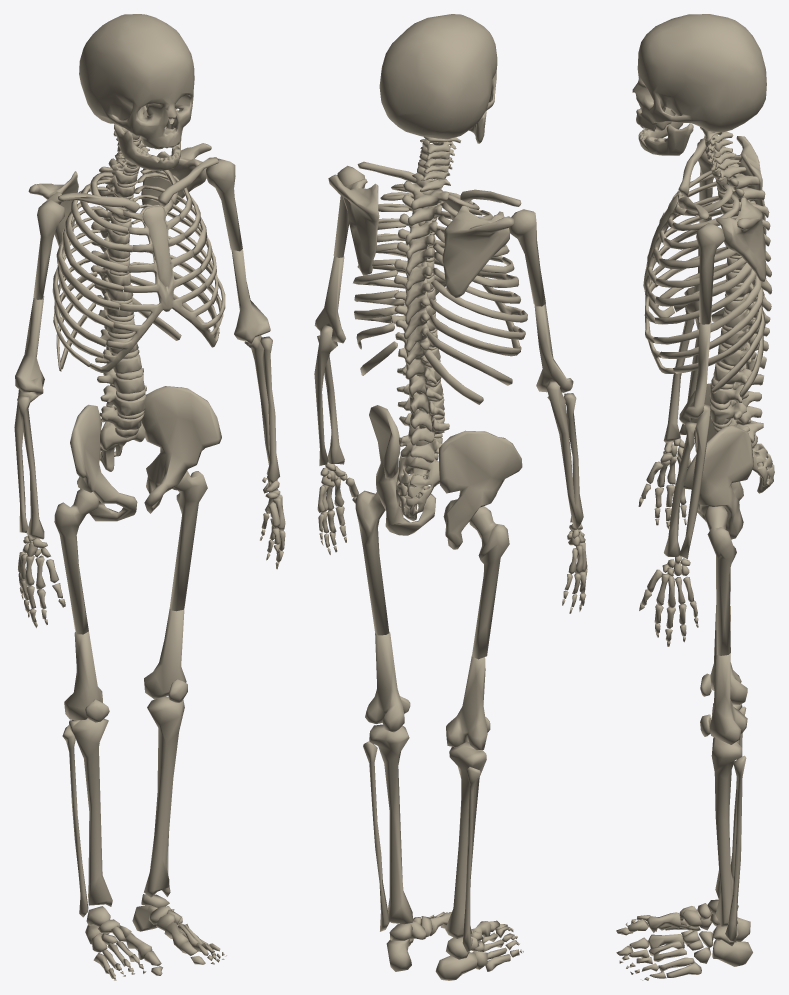
File: pediatric_child_10y_male.skeletal.LOD2.glb
3 views of the same model, side by side, from view 1: azimuth 30°, elevation 25°; view 2: azimuth 150°, elevation 25°; view 3: azimuth 270°, elevation 25° (orthographic).
Visible parts, largest first — view 1: PEDIATRIC.CHILD_10Y.MALE.SKELETAL.CRANIUM_CORTICAL, PEDIATRIC.CHILD_10Y.MALE.SKELETAL.RIBS_CORTICAL, PEDIATRIC.CHILD_10Y.MALE.SKELETAL.PELVIS_CORTICAL, PEDIATRIC.CHILD_10Y.MALE.SKELETAL.TIBIAE_CORTICAL, PEDIATRIC.CHILD_10Y.MALE.SKELETAL.CARTILAGE_TRUNK, PEDIATRIC.CHILD_10Y.MALE.SKELETAL.FEMORA_UPPER_CORTICAL, PEDIATRIC.CHILD_10Y.MALE.SKELETAL.ANKLES_AND_FOOT_CORTICAL, PEDIATRIC.CHILD_10Y.MALE.SKELETAL.FEMORA_LOWER_CORTICAL, PEDIATRIC.CHILD_10Y.MALE.SKELETAL.WRISTS_AND_HAND_BONES_CORT, PEDIATRIC.CHILD_10Y.MALE.SKELETAL.HUMERI_LOWER_CORTICAL, PEDIATRIC.CHILD_10Y.MALE.SKELETAL.THORACIC_SPINE_CORTICAL, PEDIATRIC.CHILD_10Y.MALE.SKELETAL.HUMERI_UPPER_CORTICAL (+10 smaller); view 2: PEDIATRIC.CHILD_10Y.MALE.SKELETAL.CRANIUM_CORTICAL, PEDIATRIC.CHILD_10Y.MALE.SKELETAL.RIBS_CORTICAL, PEDIATRIC.CHILD_10Y.MALE.SKELETAL.PELVIS_CORTICAL, PEDIATRIC.CHILD_10Y.MALE.SKELETAL.SCAPULAE_CORTICAL, PEDIATRIC.CHILD_10Y.MALE.SKELETAL.TIBIAE_CORTICAL, PEDIATRIC.CHILD_10Y.MALE.SKELETAL.THORACIC_SPINE_CORTICAL, PEDIATRIC.CHILD_10Y.MALE.SKELETAL.FEMORA_UPPER_CORTICAL, PEDIATRIC.CHILD_10Y.MALE.SKELETAL.FEMORA_LOWER_CORTICAL, PEDIATRIC.CHILD_10Y.MALE.SKELETAL.ANKLES_AND_FOOT_CORTICAL, PEDIATRIC.CHILD_10Y.MALE.SKELETAL.LUMBAR_SPINE_CORTICAL, PEDIATRIC.CHILD_10Y.MALE.SKELETAL.WRISTS_AND_HAND_BONES_CORT, PEDIATRIC.CHILD_10Y.MALE.SKELETAL.ULNAE_CORTICAL (+8 smaller); view 3: PEDIATRIC.CHILD_10Y.MALE.SKELETAL.CRANIUM_CORTICAL, PEDIATRIC.CHILD_10Y.MALE.SKELETAL.RIBS_CORTICAL, PEDIATRIC.CHILD_10Y.MALE.SKELETAL.ANKLES_AND_FOOT_CORTICAL, PEDIATRIC.CHILD_10Y.MALE.SKELETAL.PELVIS_CORTICAL, PEDIATRIC.CHILD_10Y.MALE.SKELETAL.WRISTS_AND_HAND_BONES_CORT, PEDIATRIC.CHILD_10Y.MALE.SKELETAL.SCAPULAE_CORTICAL, PEDIATRIC.CHILD_10Y.MALE.SKELETAL.TIBIAE_CORTICAL, PEDIATRIC.CHILD_10Y.MALE.SKELETAL.LUMBAR_SPINE_CORTICAL, PEDIATRIC.CHILD_10Y.MALE.SKELETAL.THORACIC_SPINE_CORTICAL, PEDIATRIC.CHILD_10Y.MALE.SKELETAL.FEMORA_LOWER_CORTICAL, PEDIATRIC.CHILD_10Y.MALE.SKELETAL.CARTILAGE_TRUNK, PEDIATRIC.CHILD_10Y.MALE.SKELETAL.FEMORA_UPPER_CORTICAL (+10 smaller).
Boxes of the visible parts, left/top/right/bottom form: PEDIATRIC.CHILD_10Y.MALE.SKELETAL.CRANIUM_CORTICAL: left=79, top=14, right=194, bottom=149; PEDIATRIC.CHILD_10Y.MALE.SKELETAL.RIBS_CORTICAL: left=52, top=168, right=225, bottom=371; PEDIATRIC.CHILD_10Y.MALE.SKELETAL.PELVIS_CORTICAL: left=70, top=386, right=221, bottom=521; PEDIATRIC.CHILD_10Y.MALE.SKELETAL.TIBIAE_CORTICAL: left=69, top=697, right=184, bottom=906; PEDIATRIC.CHILD_10Y.MALE.SKELETAL.CARTILAGE_TRUNK: left=89, top=138, right=220, bottom=438; PEDIATRIC.CHILD_10Y.MALE.SKELETAL.FEMORA_UPPER_CORTICAL: left=54, top=470, right=207, bottom=634; PEDIATRIC.CHILD_10Y.MALE.SKELETAL.ANKLES_AND_FOOT_CORTICAL: left=85, top=894, right=226, bottom=980; PEDIATRIC.CHILD_10Y.MALE.SKELETAL.FEMORA_LOWER_CORTICAL: left=64, top=608, right=186, bottom=720; PEDIATRIC.CHILD_10Y.MALE.SKELETAL.WRISTS_AND_HAND_BONES_CORT: left=18, top=476, right=285, bottom=628; PEDIATRIC.CHILD_10Y.MALE.SKELETAL.HUMERI_LOWER_CORTICAL: left=15, top=250, right=270, bottom=396; PEDIATRIC.CHILD_10Y.MALE.SKELETAL.THORACIC_SPINE_CORTICAL: left=91, top=158, right=138, bottom=333; PEDIATRIC.CHILD_10Y.MALE.SKELETAL.HUMERI_UPPER_CORTICAL: left=33, top=158, right=242, bottom=299; PEDIATRIC.CHILD_10Y.MALE.SKELETAL.CRANIUM_CORTICAL: left=379, top=14, right=497, bottom=139; PEDIATRIC.CHILD_10Y.MALE.SKELETAL.RIBS_CORTICAL: left=353, top=183, right=527, bottom=404; PEDIATRIC.CHILD_10Y.MALE.SKELETAL.PELVIS_CORTICAL: left=369, top=405, right=522, bottom=549; PEDIATRIC.CHILD_10Y.MALE.SKELETAL.SCAPULAE_CORTICAL: left=328, top=174, right=514, bottom=297; PEDIATRIC.CHILD_10Y.MALE.SKELETAL.TIBIAE_CORTICAL: left=369, top=724, right=486, bottom=938; PEDIATRIC.CHILD_10Y.MALE.SKELETAL.THORACIC_SPINE_CORTICAL: left=393, top=181, right=449, bottom=379; PEDIATRIC.CHILD_10Y.MALE.SKELETAL.FEMORA_UPPER_CORTICAL: left=355, top=490, right=509, bottom=659; PEDIATRIC.CHILD_10Y.MALE.SKELETAL.FEMORA_LOWER_CORTICAL: left=365, top=632, right=487, bottom=749; PEDIATRIC.CHILD_10Y.MALE.SKELETAL.ANKLES_AND_FOOT_CORTICAL: left=386, top=912, right=523, bottom=980; PEDIATRIC.CHILD_10Y.MALE.SKELETAL.LUMBAR_SPINE_CORTICAL: left=396, top=365, right=449, bottom=463; PEDIATRIC.CHILD_10Y.MALE.SKELETAL.WRISTS_AND_HAND_BONES_CORT: left=317, top=463, right=587, bottom=613; PEDIATRIC.CHILD_10Y.MALE.SKELETAL.ULNAE_CORTICAL: left=314, top=325, right=581, bottom=528; PEDIATRIC.CHILD_10Y.MALE.SKELETAL.CRANIUM_CORTICAL: left=632, top=14, right=766, bottom=132; PEDIATRIC.CHILD_10Y.MALE.SKELETAL.RIBS_CORTICAL: left=653, top=168, right=765, bottom=397; PEDIATRIC.CHILD_10Y.MALE.SKELETAL.ANKLES_AND_FOOT_CORTICAL: left=616, top=899, right=752, bottom=980; PEDIATRIC.CHILD_10Y.MALE.SKELETAL.PELVIS_CORTICAL: left=679, top=383, right=753, bottom=539; PEDIATRIC.CHILD_10Y.MALE.SKELETAL.WRISTS_AND_HAND_BONES_CORT: left=638, top=438, right=698, bottom=646; PEDIATRIC.CHILD_10Y.MALE.SKELETAL.SCAPULAE_CORTICAL: left=716, top=136, right=766, bottom=281; PEDIATRIC.CHILD_10Y.MALE.SKELETAL.TIBIAE_CORTICAL: left=711, top=703, right=742, bottom=926; PEDIATRIC.CHILD_10Y.MALE.SKELETAL.LUMBAR_SPINE_CORTICAL: left=709, top=342, right=766, bottom=443; PEDIATRIC.CHILD_10Y.MALE.SKELETAL.THORACIC_SPINE_CORTICAL: left=716, top=163, right=772, bottom=351; PEDIATRIC.CHILD_10Y.MALE.SKELETAL.FEMORA_LOWER_CORTICAL: left=709, top=605, right=747, bottom=744; PEDIATRIC.CHILD_10Y.MALE.SKELETAL.CARTILAGE_TRUNK: left=643, top=139, right=744, bottom=428; PEDIATRIC.CHILD_10Y.MALE.SKELETAL.FEMORA_UPPER_CORTICAL: left=705, top=506, right=736, bottom=655.
Bounding box in the file's own units: 0.4007 × 1.38 × 0.2124.
